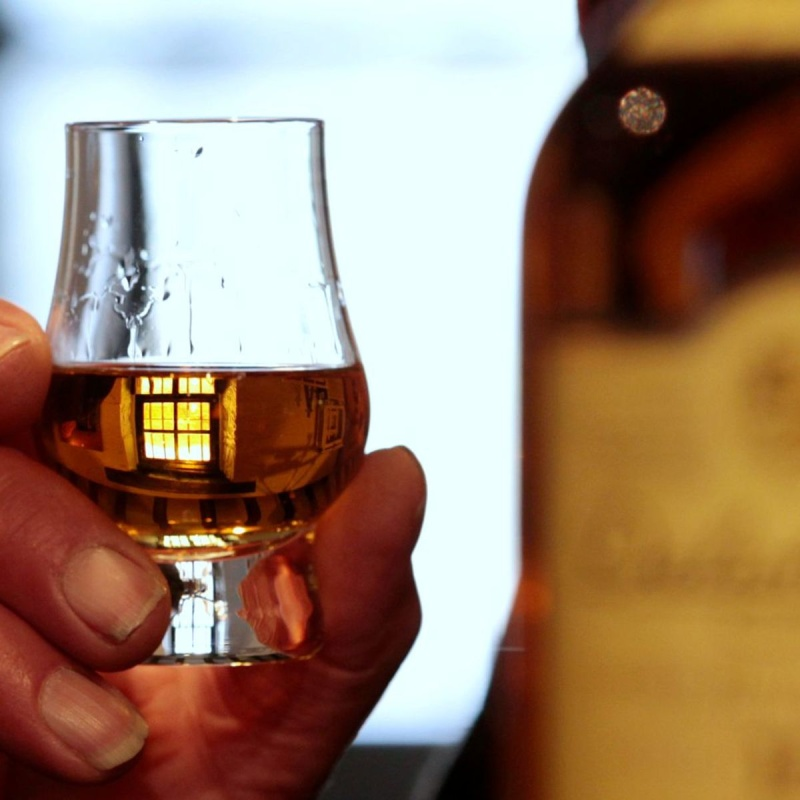whiskey: (48, 111, 361, 660)
